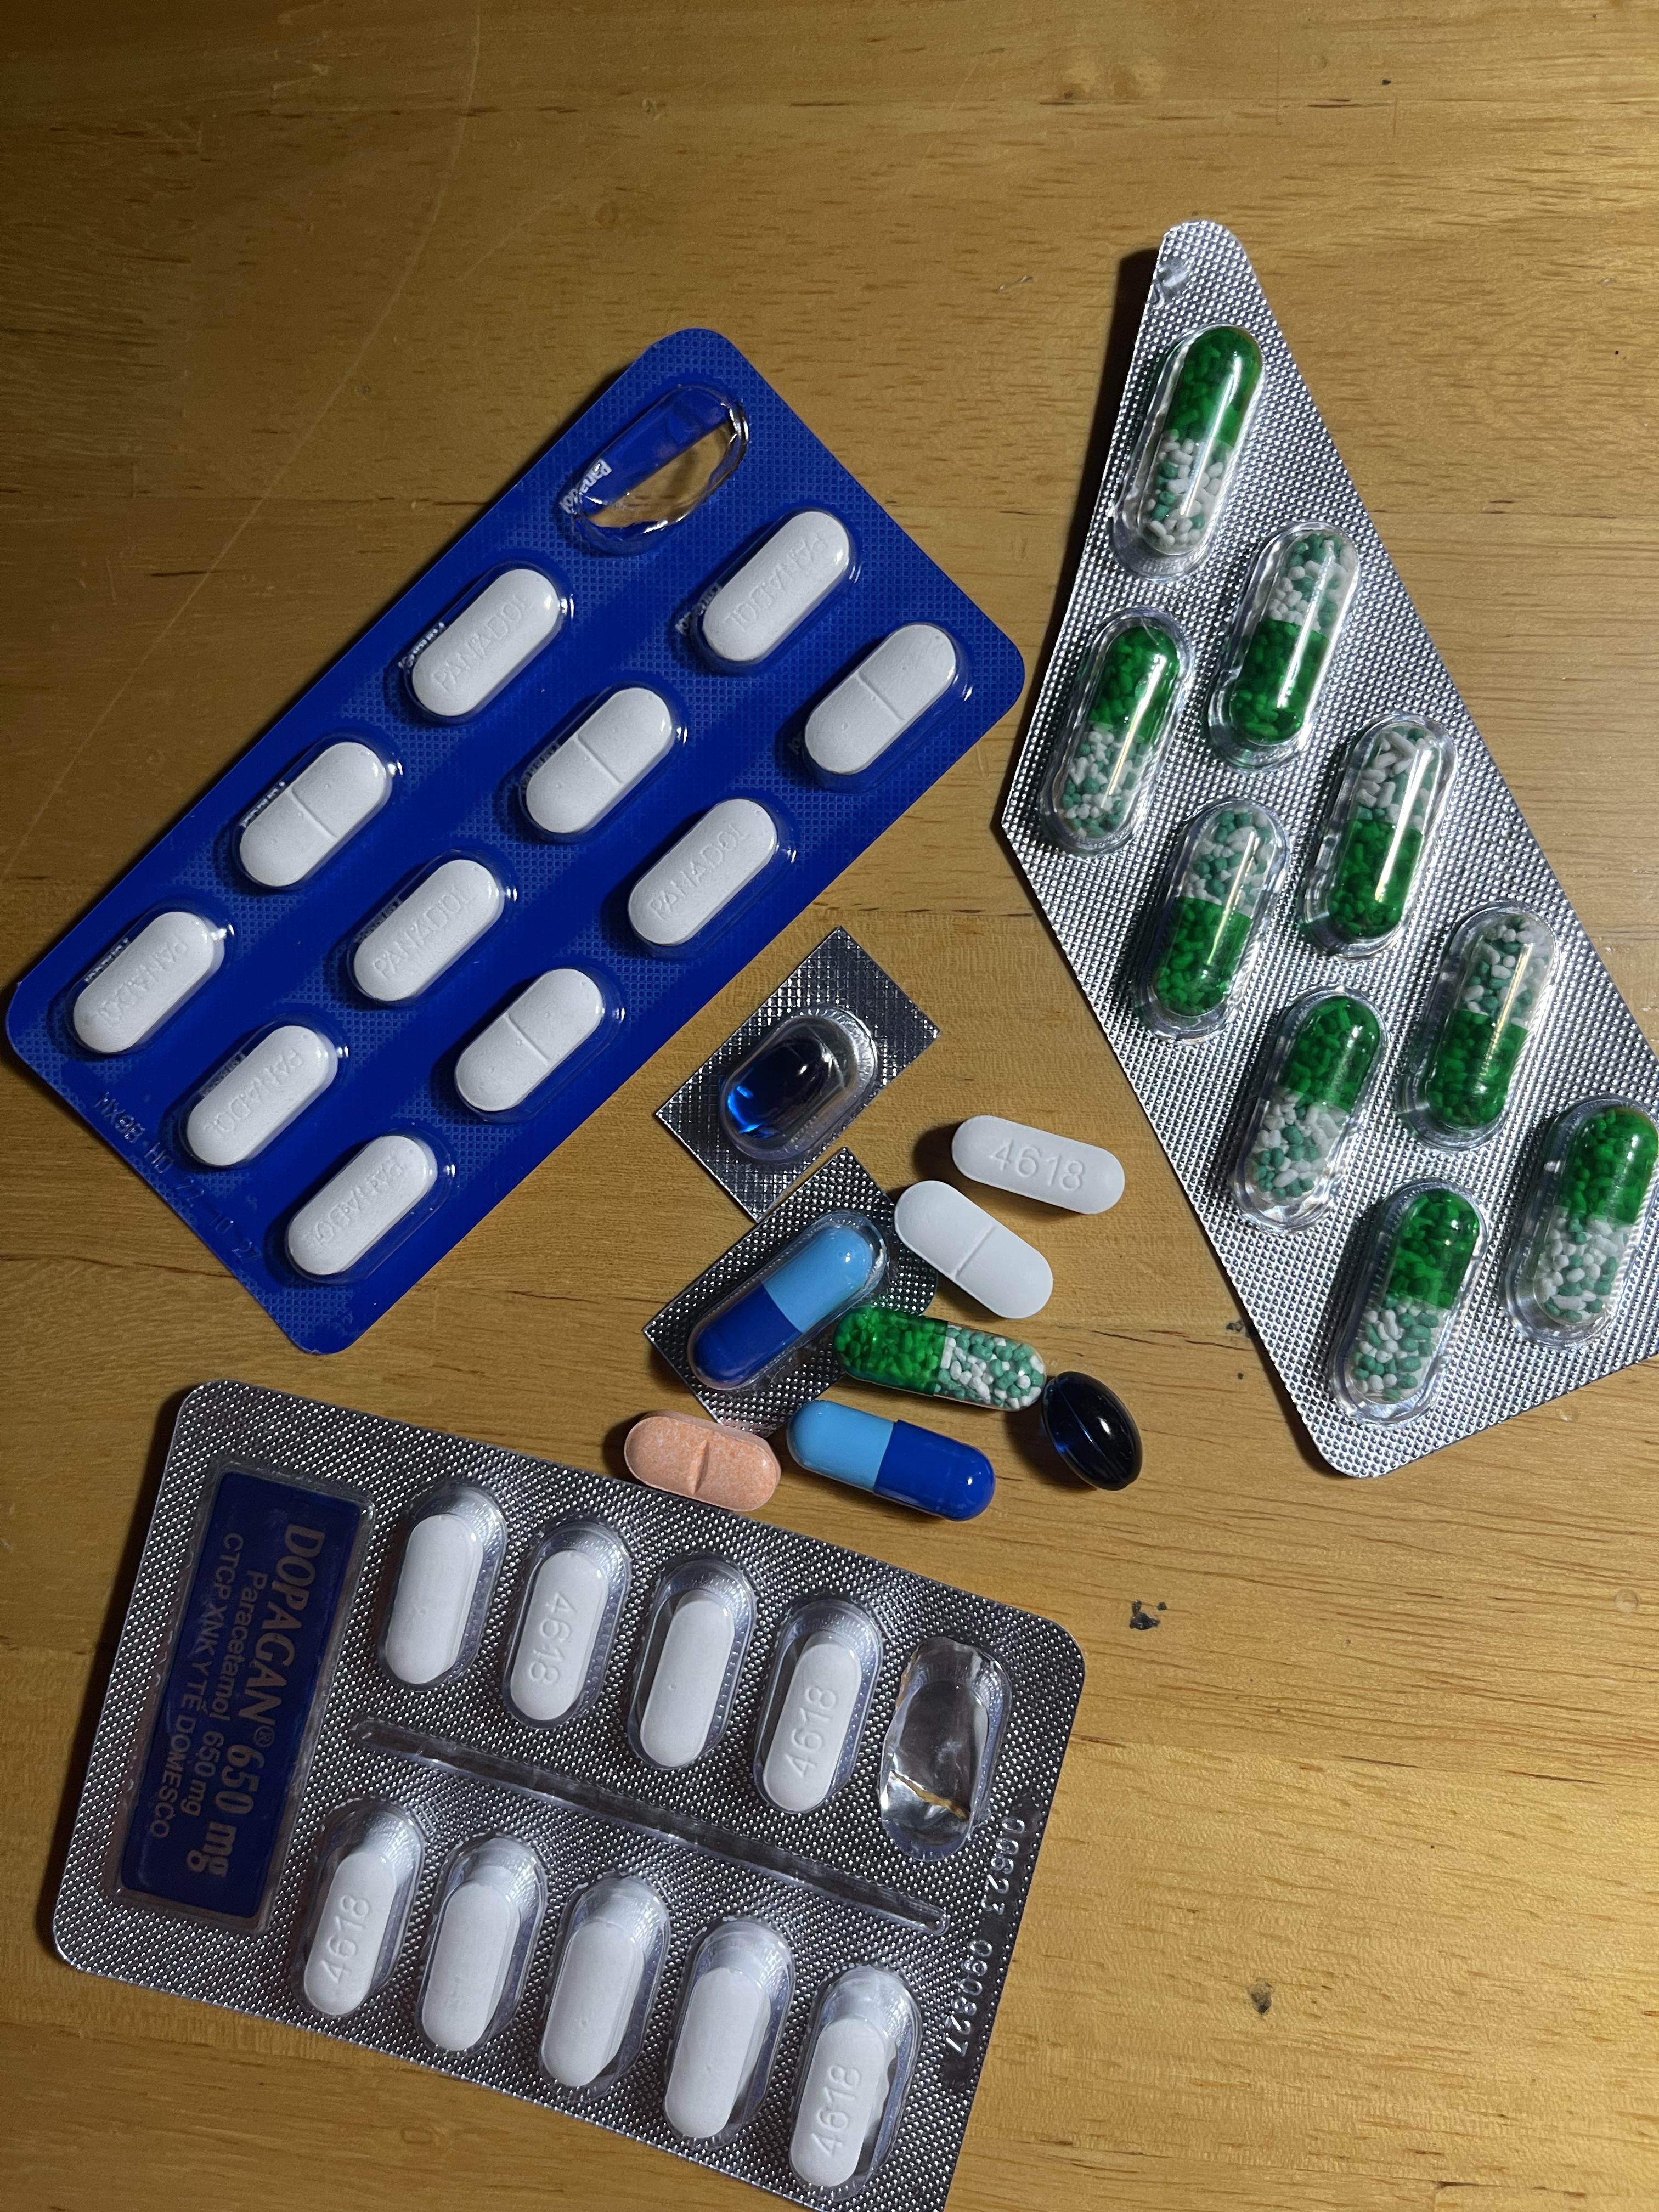Lincomyxin_500mg: (725, 1028, 847, 1139), (1039, 1371, 1143, 1491)
Loratadine_10mg: (626, 1409, 786, 1501)
Paracetamol_350mg: (795, 622, 965, 791), (688, 510, 852, 674), (401, 564, 566, 726), (626, 794, 789, 954), (516, 686, 678, 841), (345, 850, 507, 1005), (181, 1015, 345, 1167), (70, 906, 228, 1055), (235, 737, 389, 890), (894, 1177, 1056, 1320), (453, 968, 606, 1116), (284, 1132, 441, 1277)
Paracetamol_500mg: (659, 1939, 781, 2142), (540, 1893, 660, 2092), (300, 1822, 415, 2022), (420, 1869, 532, 2057), (765, 1634, 870, 1810), (950, 1116, 1127, 1217), (638, 1595, 739, 1771), (385, 1514, 488, 1684), (789, 2017, 892, 2186), (511, 1554, 610, 1723)
Paracetamol_650mg: (1232, 1001, 1375, 1209), (1131, 329, 1258, 557), (1525, 1113, 1659, 1327), (1419, 920, 1551, 1129), (1323, 716, 1445, 942), (1225, 540, 1351, 758), (1352, 1195, 1481, 1400), (1152, 815, 1276, 1014), (1068, 629, 1182, 841), (836, 1308, 1044, 1411)
pill: (685, 1207, 889, 1390), (791, 1397, 993, 1514)
